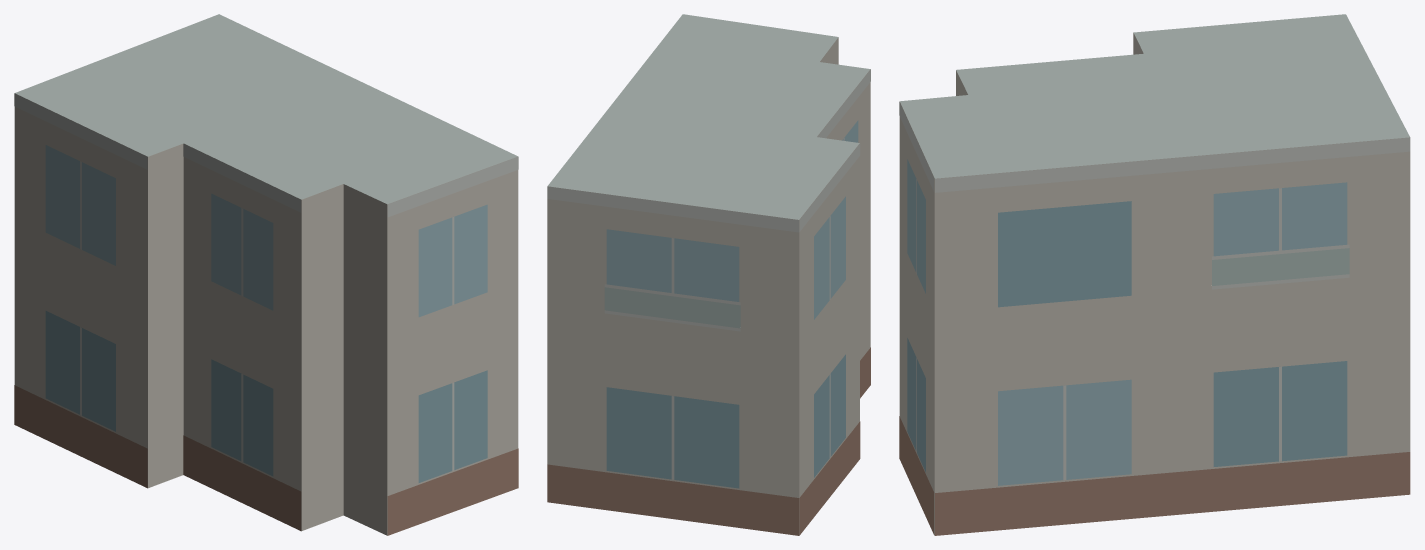
Rendered from survey-upis-32819690.glb.
3 views of the same model, side by side, from view 1: azimuth 30°, elevation 25°; view 2: azimuth 150°, elevation 25°; view 3: azimuth 270°, elevation 25° (orthographic). The views are drawn at different scales.
Parts seen in each view (by area): view 1: survey-upis-32819690.tmp; view 2: survey-upis-32819690.tmp; view 3: survey-upis-32819690.tmp.
Boxes of the visible parts, x1,y1,x2,y2 form: survey-upis-32819690.tmp: (14, 14, 518, 535); survey-upis-32819690.tmp: (547, 14, 870, 535); survey-upis-32819690.tmp: (899, 14, 1410, 535).
Bounding box in the file's own units: 6.04 × 6.1 × 7.92.
